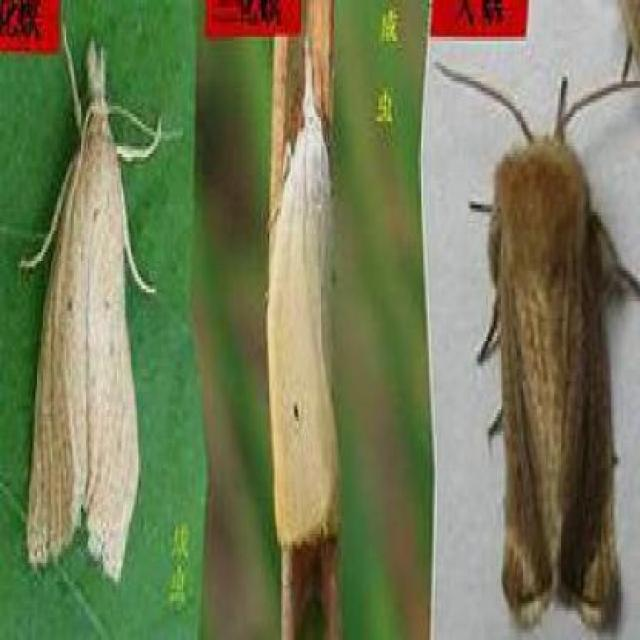stem-borer: (434, 52, 640, 634), (14, 27, 182, 591), (266, 43, 343, 554)
